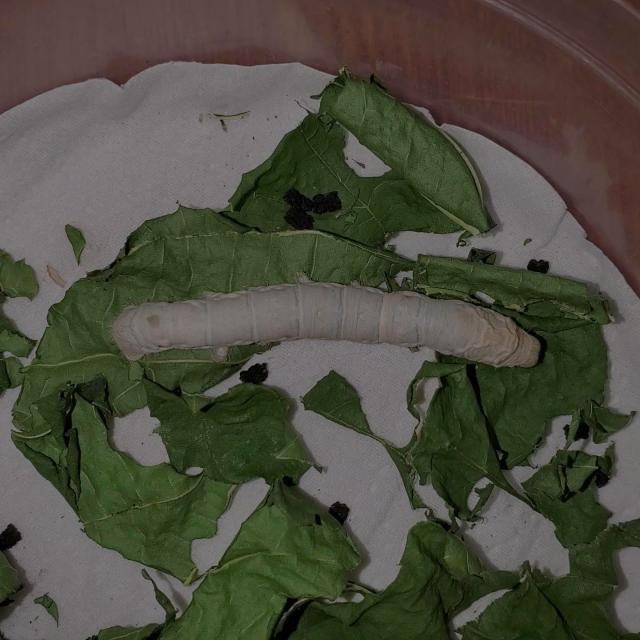Healthy: (80, 218, 560, 441)
